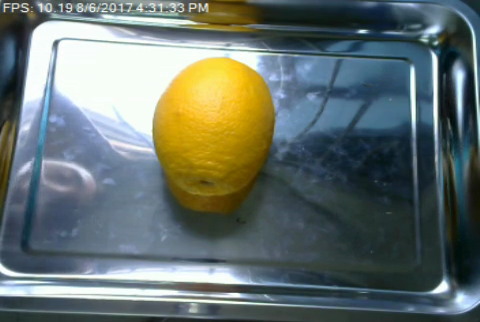Orange: (151, 55, 277, 196)
